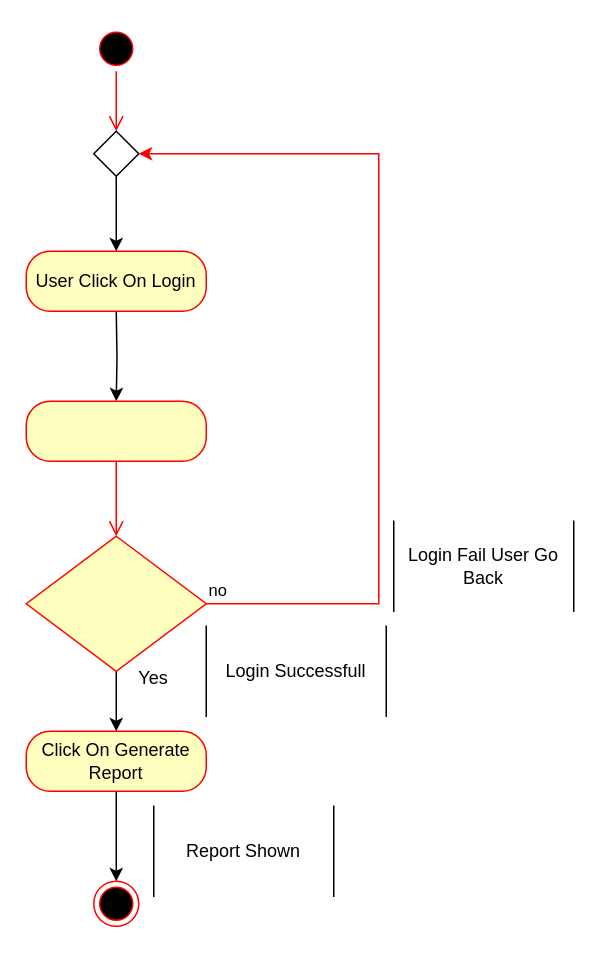
This 600x953 diagram has some shape labels left out. The shapes that lost their labels are listed below. From the top down, each one's centre as x and y in pixels, then its label:
At [115,430]: "User Enter Credentials".
At [115,603]: "User Credentials Will Be Checked in DB".
